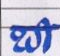i_matra: (39, 18, 51, 52)
